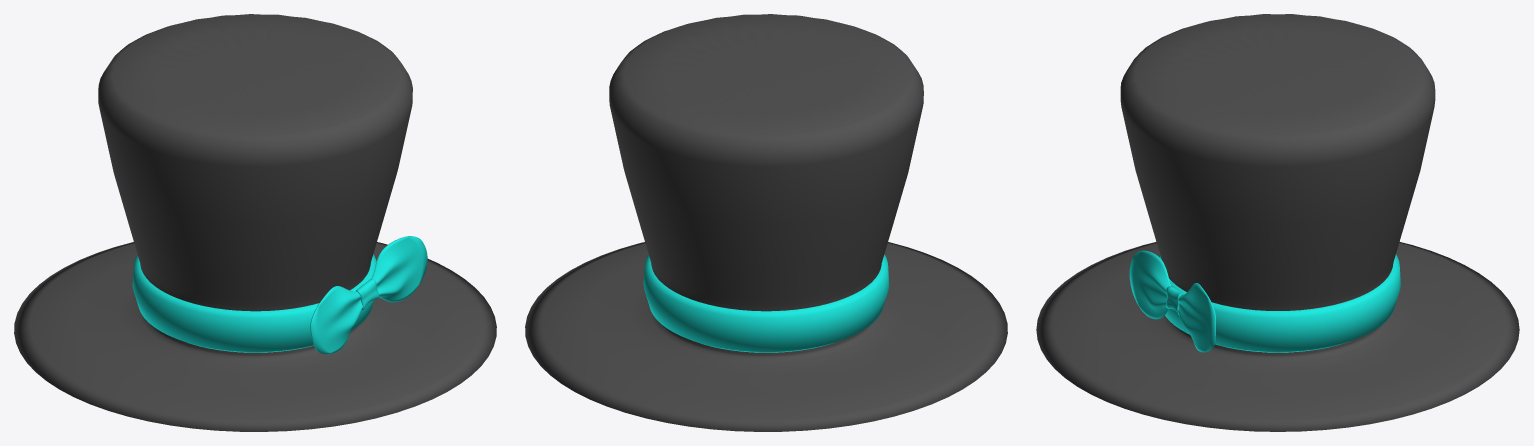
File: animdevorae_FixedUV.fbx
The picture shows the model from 3 angles, left to right: view 1: azimuth 30°, elevation 25°; view 2: azimuth 150°, elevation 25°; view 3: azimuth 270°, elevation 25°; orthographic projection.
Parts seen in each view (by area): view 1: hat; view 2: hat; view 3: hat.
Boxes of the visible parts, x1=… form: hat: x1=14, y1=14, x2=496, y2=431; hat: x1=525, y1=14, x2=1007, y2=431; hat: x1=1036, y1=14, x2=1519, y2=431.
Bounding box in the file's own units: 439 × 266 × 439.
